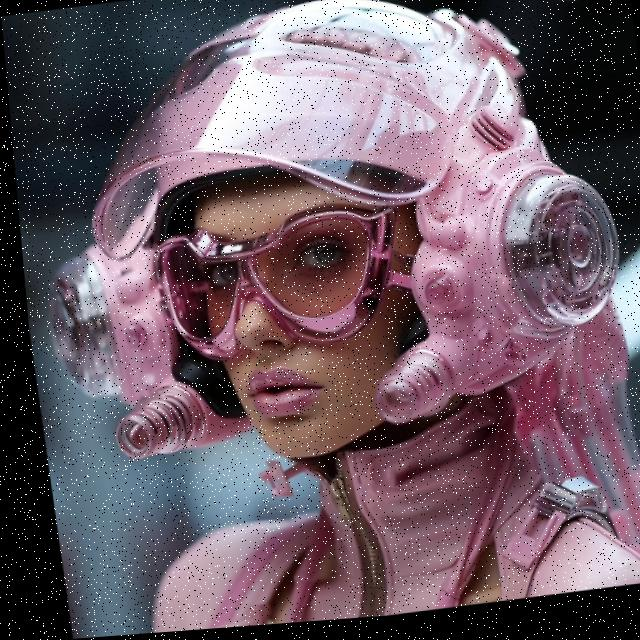illegal_helmet: (2, 0, 640, 502)
